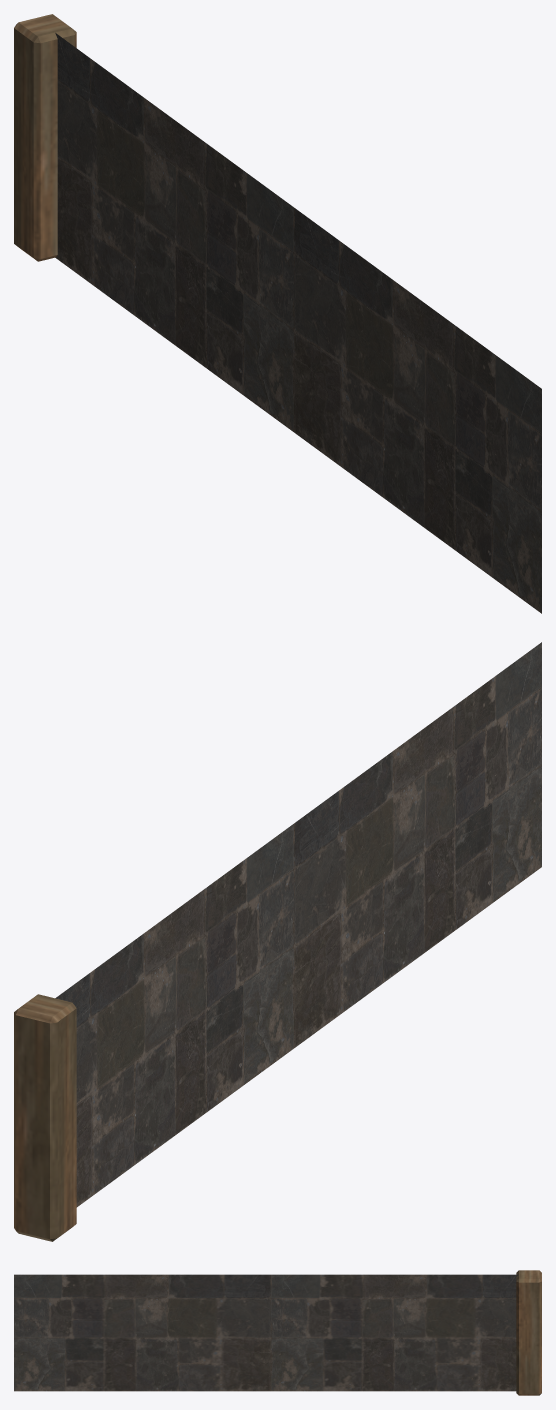
The model's file is SM_base_wall_02.fbx.
The picture shows the model from 3 angles, top to bottom: view 1: azimuth 30°, elevation 25°; view 2: azimuth 150°, elevation 25°; view 3: azimuth 270°, elevation 25°; orthographic projection. The views are drawn at different scales.
Visible parts, largest first — view 1: SM_base_wall_02_LOD0; view 2: SM_base_wall_02_LOD0; view 3: SM_base_wall_02_LOD0.
Boxes of the visible parts, box(x1,y1,x2,y2) form: SM_base_wall_02_LOD0: box(14, 14, 541, 613); SM_base_wall_02_LOD0: box(14, 642, 541, 1241); SM_base_wall_02_LOD0: box(14, 1270, 541, 1395).
Size of the model in its own units: 20 by 410 by 100.
2 materials, 2 textured.
